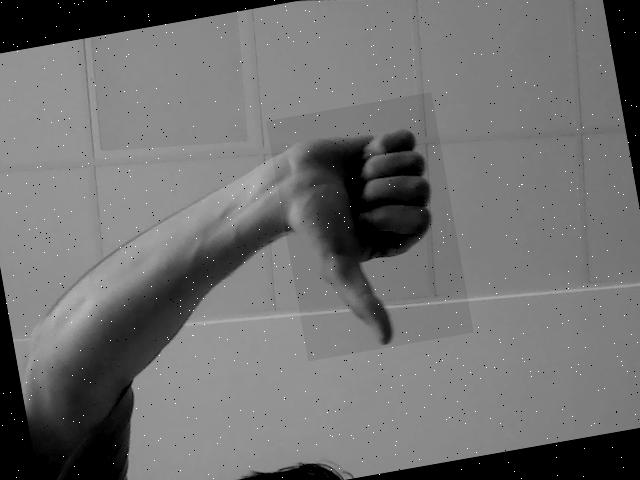bad: (266, 92, 474, 360)
